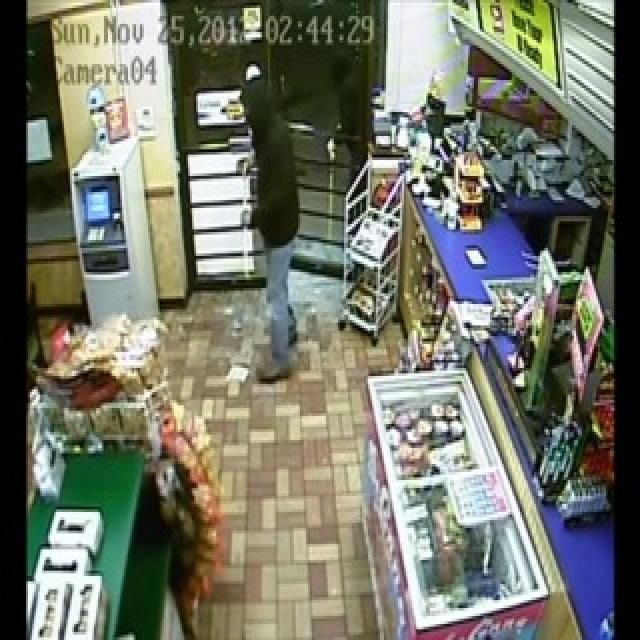thief: (224, 79, 310, 349), (332, 53, 372, 174)
